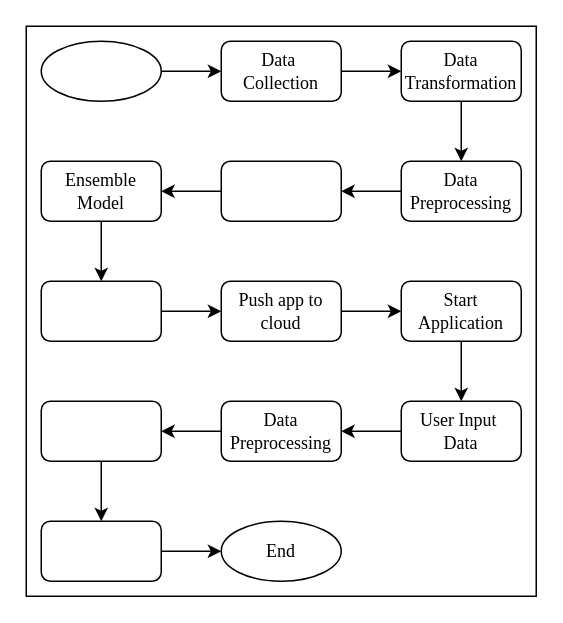
This 563x623 diagram has some shape labels left out. The shapes that lost their labels are listed below. From the top down, each one's centre as x and y in pixels, then its label:
At point 100,70: "Start".
At point 280,190: "Machine Learning Models".
At point 100,310: "Streamlit Cloud Setup".
At point 100,430: "Model Call for Input data".
At point 100,550: "Display Results".
